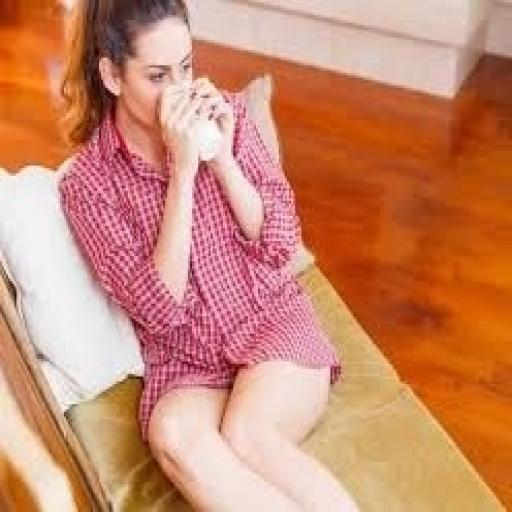drinking: (76, 34, 223, 163)
